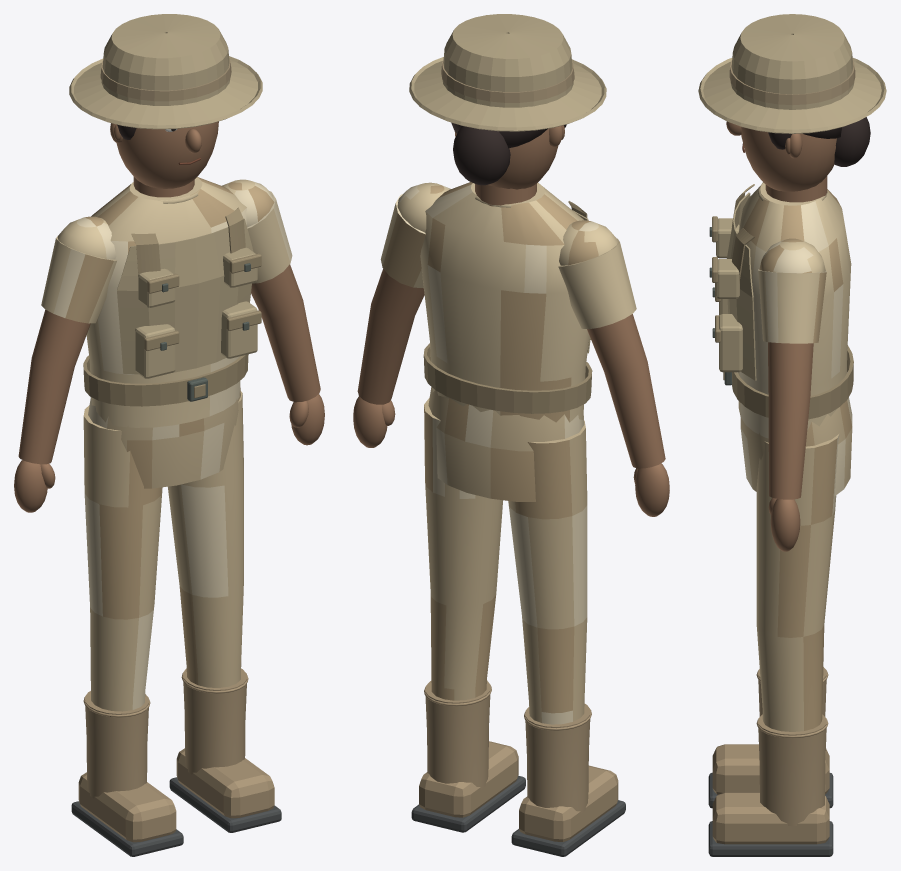
File: soldier_desert_2.glb
The picture shows the model from 3 angles, left to right: view 1: azimuth 30°, elevation 25°; view 2: azimuth 150°, elevation 25°; view 3: azimuth 270°, elevation 25°; orthographic projection.
Parts seen in each view (by area): view 1: Desert_Soldier_2_Trouser_Leg, Desert_Soldier_2_Trouser_Leg.001, Desert_Soldier_2_Torso_And_Main_Clothes, Desert_Soldier_2_Fitted_Field_Vest, Desert_Soldier_2_Desert_Boonie_Crown, Desert_Soldier_2_Connected_Hip_Garment, Desert_Soldier_2_Arm_Skin, Desert_Soldier_2_Desert_Boonie_Brim, Desert_Soldier_2_Arm_Skin.001, Desert_Soldier_2_High_Boot_Shaft, Desert_Soldier_2_High_Boot_Shaft.001, Desert_Soldier_2_Head (+19 smaller); view 2: Desert_Soldier_2_Torso_And_Main_Clothes, Desert_Soldier_2_Trouser_Leg, Desert_Soldier_2_Trouser_Leg.001, Desert_Soldier_2_Connected_Hip_Garment, Desert_Soldier_2_Desert_Boonie_Crown, Desert_Soldier_2_Desert_Boonie_Brim, Desert_Soldier_2_Arm_Skin, Desert_Soldier_2_High_Boot_Shaft, Desert_Soldier_2_High_Boot_Shaft.001, Desert_Soldier_2_Arm_Skin.001, Desert_Soldier_2_Short_Sleeve, Desert_Soldier_2_Waist_Belt (+13 smaller); view 3: Desert_Soldier_2_Trouser_Leg.001, Desert_Soldier_2_Torso_And_Main_Clothes, Desert_Soldier_2_Desert_Boonie_Crown, Desert_Soldier_2_Desert_Boonie_Brim, Desert_Soldier_2_Arm_Skin.001, Desert_Soldier_2_High_Boot_Shaft.001, Desert_Soldier_2_Shoe_Upper.001, Desert_Soldier_2_Short_Sleeve.001, Desert_Soldier_2_Head, Desert_Soldier_2_Connected_Hip_Garment, Desert_Soldier_2_Shoe_Upper, Desert_Soldier_2_Fitted_Field_Vest (+12 smaller).
Boxes of the visible parts, bbox=[...] form: Desert_Soldier_2_Trouser_Leg: bbox=[83, 405, 162, 711]; Desert_Soldier_2_Trouser_Leg.001: bbox=[168, 391, 243, 687]; Desert_Soldier_2_Torso_And_Main_Clothes: bbox=[86, 177, 246, 427]; Desert_Soldier_2_Fitted_Field_Vest: bbox=[117, 218, 253, 374]; Desert_Soldier_2_Desert_Boonie_Crown: bbox=[101, 14, 230, 105]; Desert_Soldier_2_Connected_Hip_Garment: bbox=[88, 386, 240, 488]; Desert_Soldier_2_Arm_Skin: bbox=[18, 309, 90, 464]; Desert_Soldier_2_Desert_Boonie_Brim: bbox=[69, 56, 262, 129]; Desert_Soldier_2_Arm_Skin.001: bbox=[251, 264, 320, 402]; Desert_Soldier_2_High_Boot_Shaft: bbox=[85, 691, 148, 798]; Desert_Soldier_2_High_Boot_Shaft.001: bbox=[183, 668, 247, 774]; Desert_Soldier_2_Head: bbox=[116, 121, 218, 188]; Desert_Soldier_2_Torso_And_Main_Clothes: bbox=[420, 182, 589, 422]; Desert_Soldier_2_Trouser_Leg: bbox=[508, 420, 587, 724]; Desert_Soldier_2_Trouser_Leg.001: bbox=[424, 398, 502, 700]; Desert_Soldier_2_Connected_Hip_Garment: bbox=[428, 387, 584, 501]; Desert_Soldier_2_Desert_Boonie_Crown: bbox=[442, 14, 573, 107]; Desert_Soldier_2_Desert_Boonie_Brim: bbox=[409, 57, 606, 131]; Desert_Soldier_2_Arm_Skin: bbox=[587, 314, 665, 468]; Desert_Soldier_2_High_Boot_Shaft: bbox=[525, 704, 590, 813]; Desert_Soldier_2_High_Boot_Shaft.001: bbox=[425, 680, 490, 788]; Desert_Soldier_2_Arm_Skin.001: bbox=[357, 268, 424, 404]; Desert_Soldier_2_Short_Sleeve: bbox=[558, 238, 636, 329]; Desert_Soldier_2_Waist_Belt: bbox=[423, 343, 592, 413]; Desert_Soldier_2_Trouser_Leg.001: bbox=[756, 434, 839, 731]; Desert_Soldier_2_Torso_And_Main_Clothes: bbox=[738, 182, 851, 438]; Desert_Soldier_2_Desert_Boonie_Crown: bbox=[730, 14, 854, 109]; Desert_Soldier_2_Desert_Boonie_Brim: bbox=[698, 58, 886, 133]; Desert_Soldier_2_Arm_Skin.001: bbox=[768, 342, 813, 499]; Desert_Soldier_2_High_Boot_Shaft.001: bbox=[758, 714, 826, 826]; Desert_Soldier_2_Shoe_Upper.001: bbox=[712, 792, 829, 844]; Desert_Soldier_2_Short_Sleeve.001: bbox=[758, 269, 826, 343]; Desert_Soldier_2_Head: bbox=[741, 127, 836, 191]; Desert_Soldier_2_Connected_Hip_Garment: bbox=[740, 397, 852, 495]; Desert_Soldier_2_Shoe_Upper: bbox=[712, 744, 829, 794]; Desert_Soldier_2_Fitted_Field_Vest: bbox=[727, 192, 756, 380].
Bounding box in the file's own units: 0.6704 × 1.62 × 0.3514.
